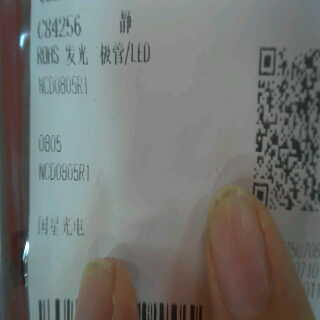LED: (64, 42, 160, 69)
